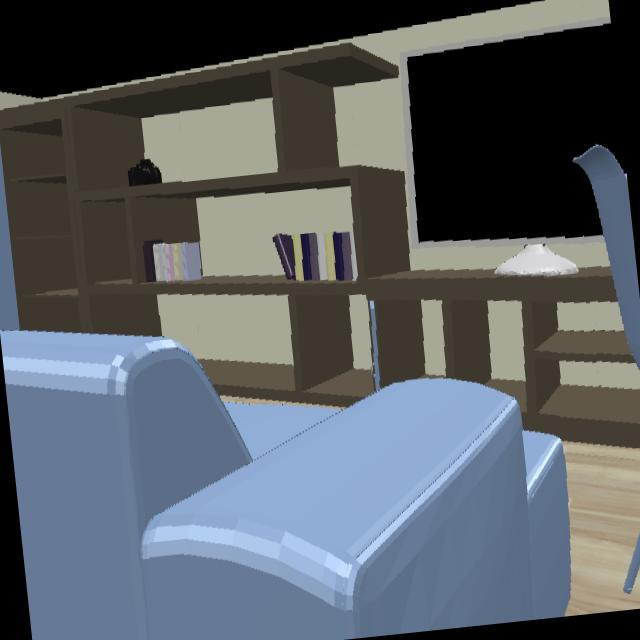book: (274, 231, 357, 280), (144, 242, 201, 281)
bookshelf: (0, 44, 640, 444)
chair: (575, 145, 640, 370), (623, 526, 640, 593)
monitor: (402, 25, 625, 242), (496, 244, 576, 275)
sofa: (0, 333, 569, 640)
